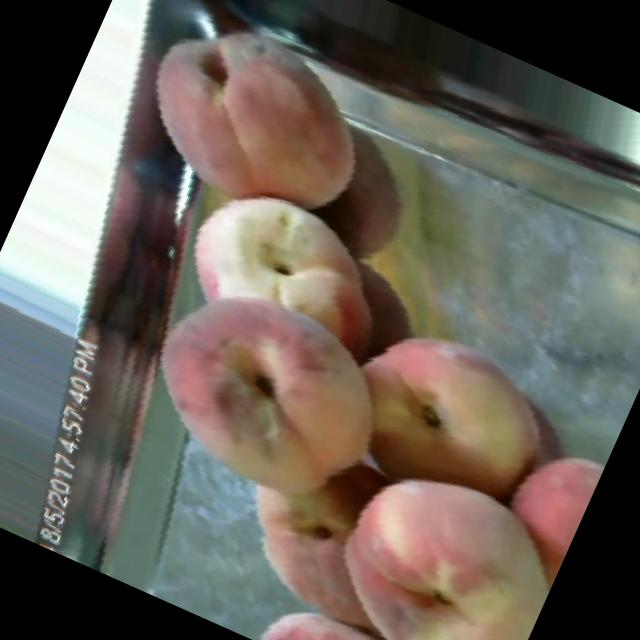Fruit: (100, 231, 448, 553), (90, 0, 409, 273), (267, 412, 585, 640), (304, 296, 578, 552), (150, 160, 425, 388)
